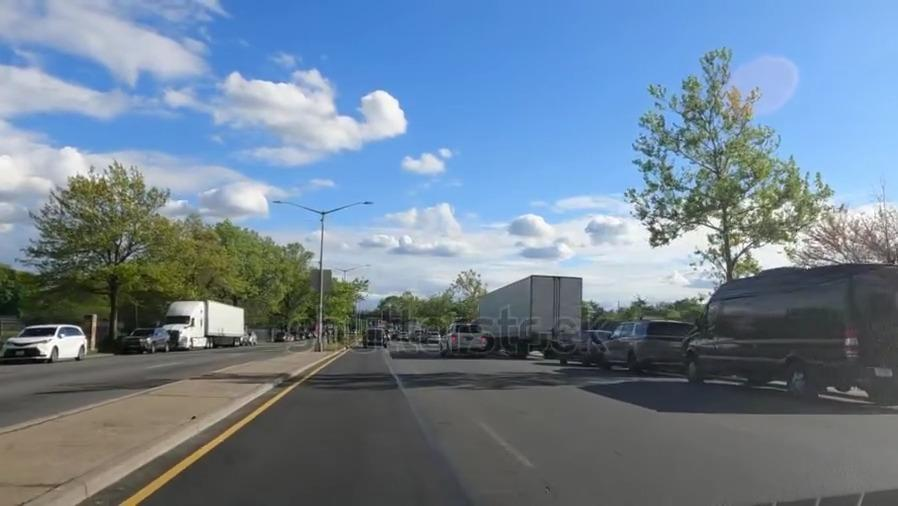car: (602, 319, 690, 371), (5, 323, 89, 363), (441, 323, 486, 355), (563, 330, 604, 360), (128, 328, 165, 352), (363, 326, 385, 350), (245, 330, 258, 347)
truck: (474, 275, 580, 354), (163, 301, 245, 349)
van: (689, 262, 898, 396)
